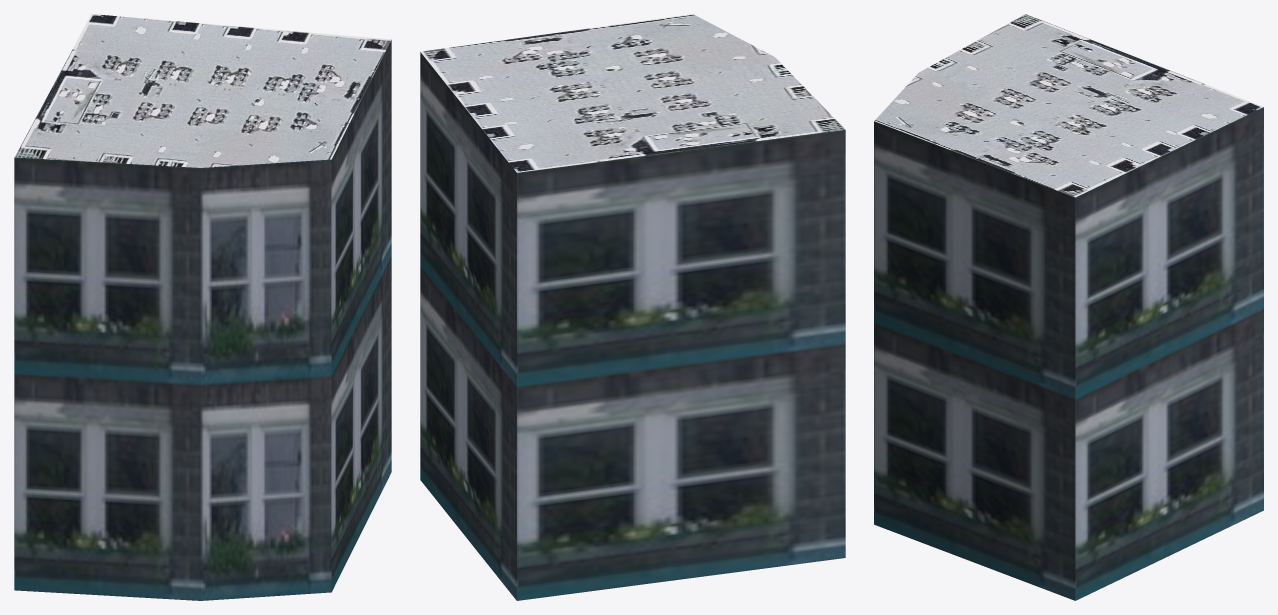
The model's file is ResTex__4167.fbx.
The picture shows the model from 3 angles, left to right: view 1: azimuth 30°, elevation 25°; view 2: azimuth 150°, elevation 25°; view 3: azimuth 270°, elevation 25°; orthographic projection. The views are drawn at different scales.
Visible parts, largest first — view 1: CityEngineMaterial_11_m, CityEngineMaterial_4_m; view 2: CityEngineMaterial_11_m, CityEngineMaterial_4_m; view 3: CityEngineMaterial_11_m, CityEngineMaterial_4_m.
Boxes of the visible parts, box(x1,y1,x2,y2) form: CityEngineMaterial_11_m: box(14, 40, 391, 600); CityEngineMaterial_4_m: box(14, 14, 391, 167); CityEngineMaterial_11_m: box(420, 52, 845, 600); CityEngineMaterial_4_m: box(420, 14, 845, 172); CityEngineMaterial_11_m: box(874, 107, 1263, 600); CityEngineMaterial_4_m: box(874, 14, 1263, 197).
Bounding box in the file's own units: 5.85 × 6 × 5.25.
2 materials, 2 textured.
